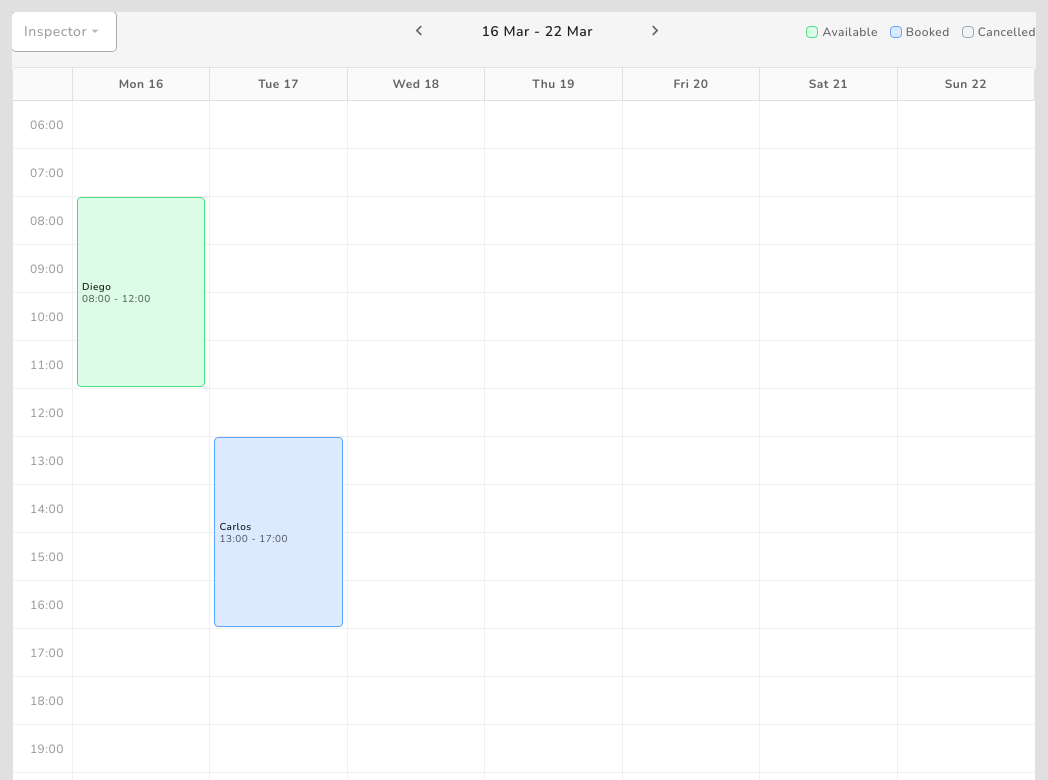
Test case: SlotCalendarView › opens a slot tooltip on click and dismisses it with Escape
Step 1. Click the button with test id "slot-block-slot-01" → {"x": 141, "y": 292}, box [77,197,205,387]
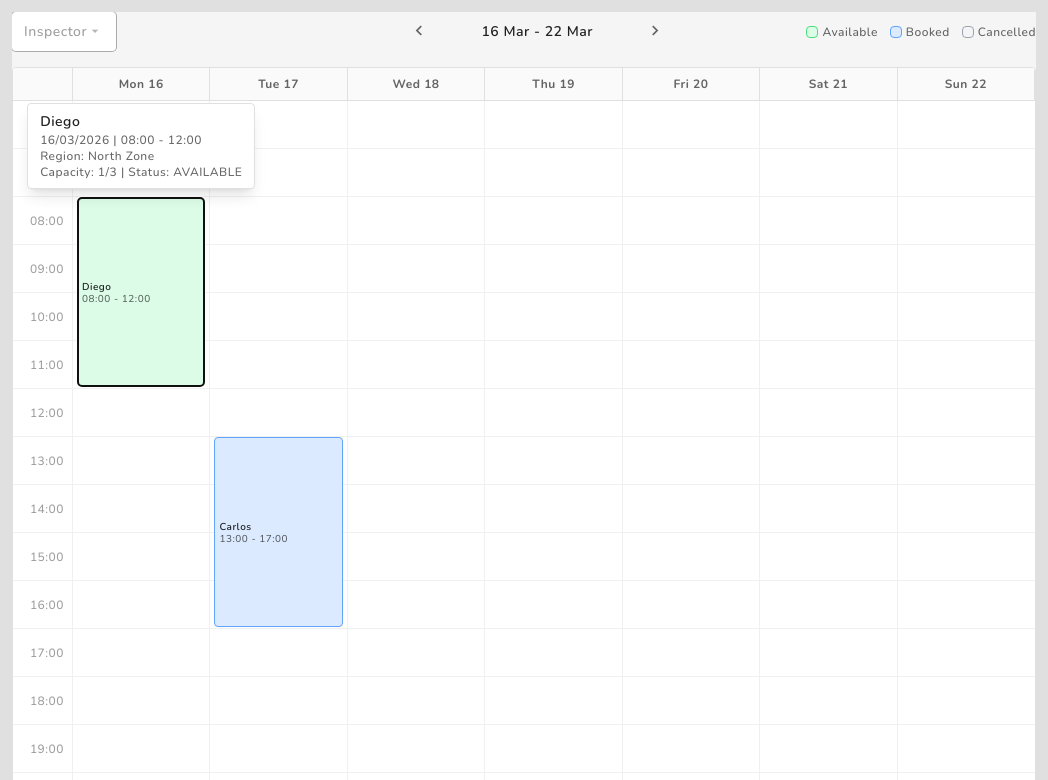
Check: the element with test id "slot-tooltip" is shown, box [27,103,255,189]
Step 2. Press Escape
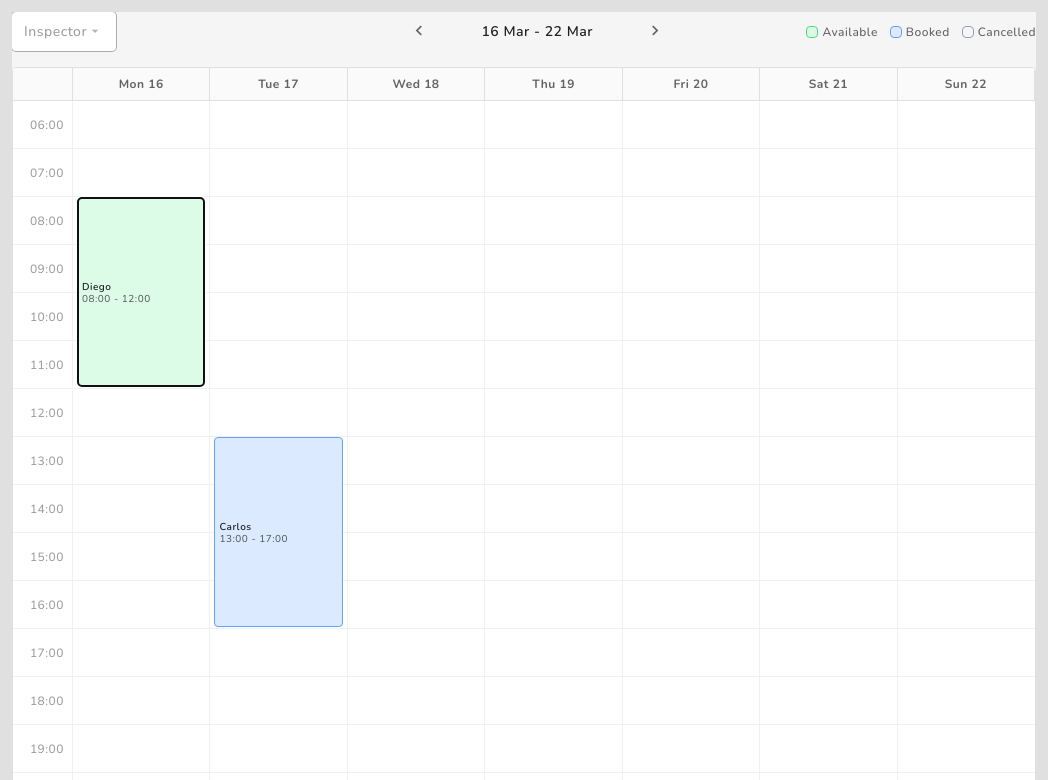
Check: the element with test id "slot-tooltip" is gone
